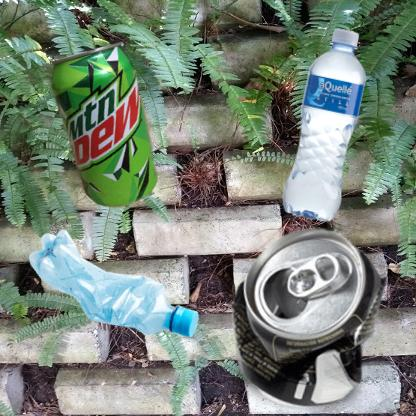botella: (10, 213, 287, 412), (213, 10, 416, 243)
lata: (10, 10, 222, 259), (213, 213, 405, 416)
